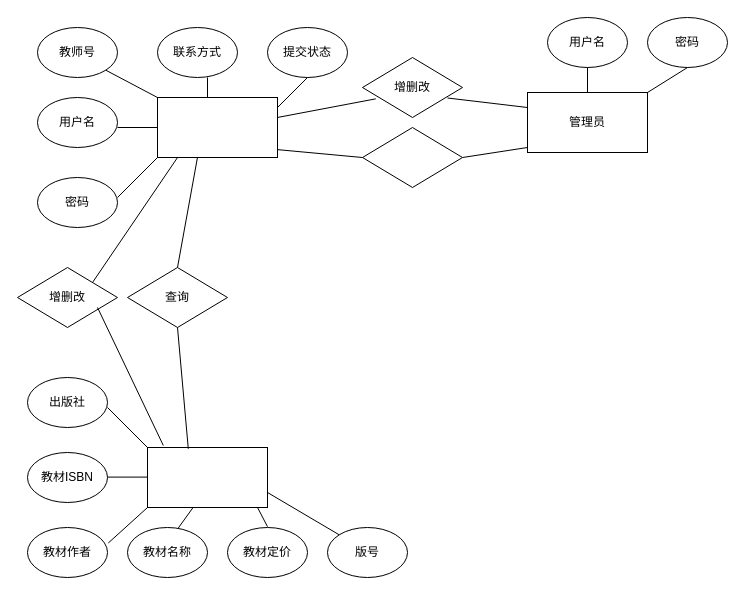
Image size: 745x595. Some labels were removed from this diagram. The shapes that lost their labels are listed below. From the top down, each one's box as (x1, y1, x2, y2) in pixels, then its label:
(156, 96, 278, 158): 教师
(362, 126, 462, 188): 审核
(146, 446, 268, 508): 教材
